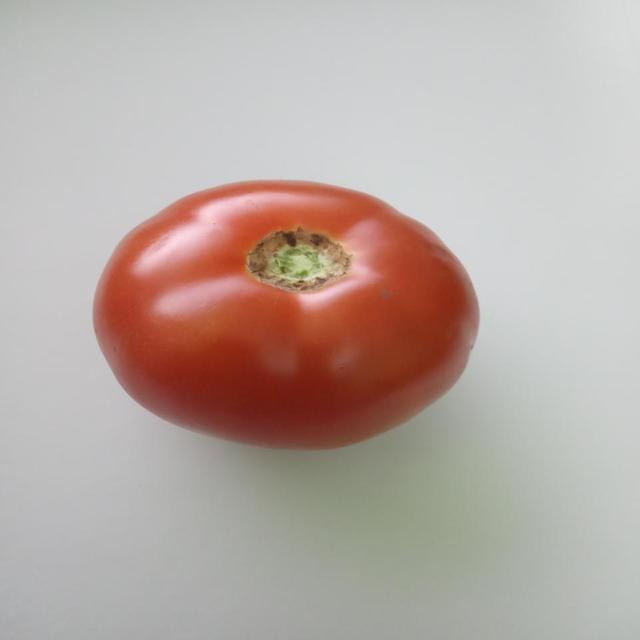Healthy Fruit: (55, 117, 329, 304)
